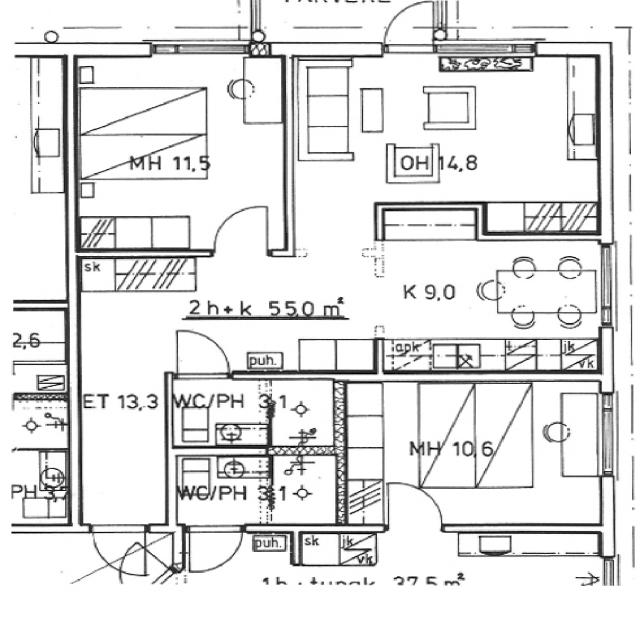door: (93, 523, 145, 577), (214, 204, 266, 258), (385, 1, 433, 56), (177, 328, 228, 379)
